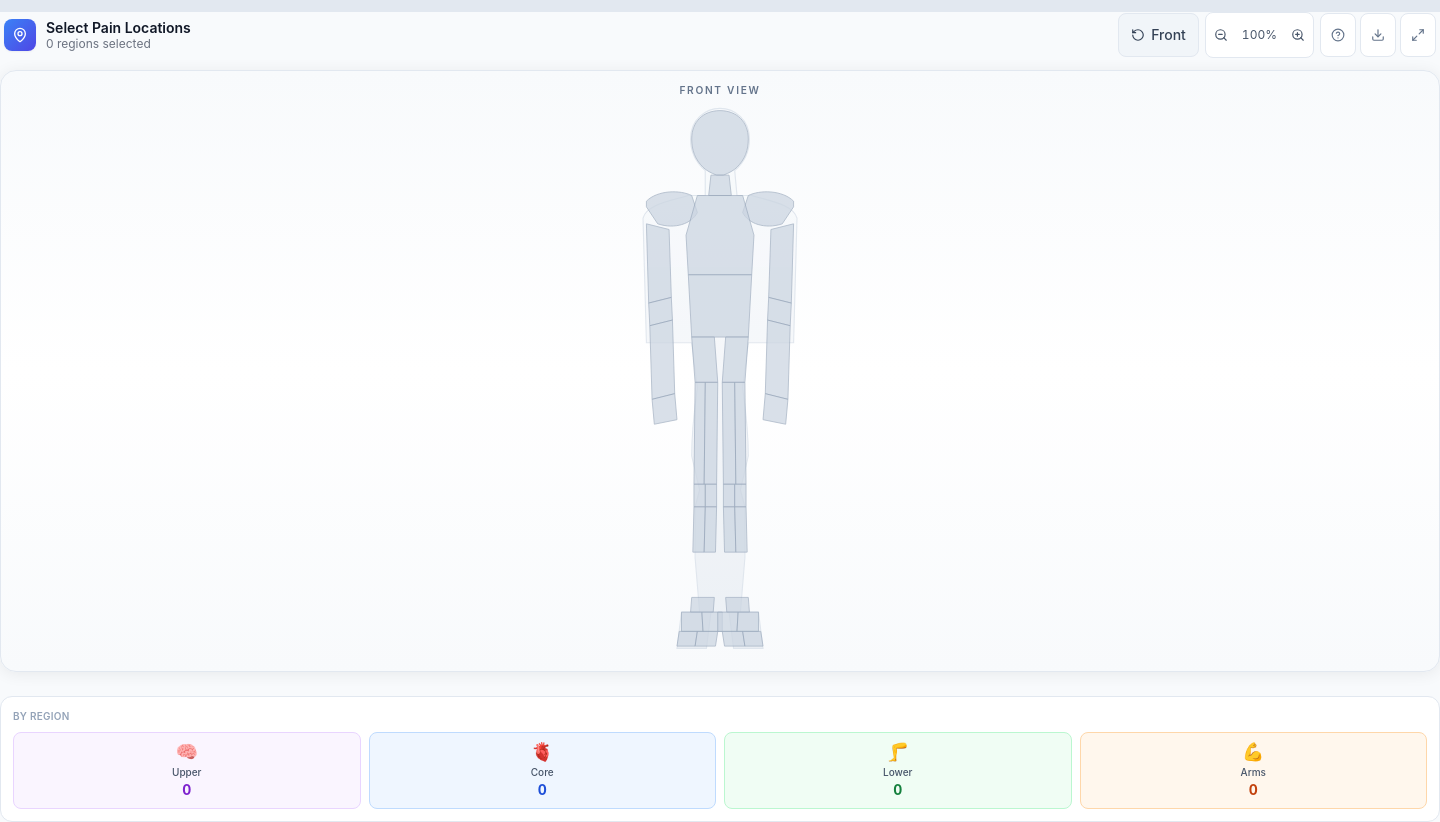
it: InteractiveBodyMap › zoom controls › decreases zoom on zoom out click
Click the button named "Zoom out" at (1221, 35), box x1=1206 y1=13 x2=1236 y2=57
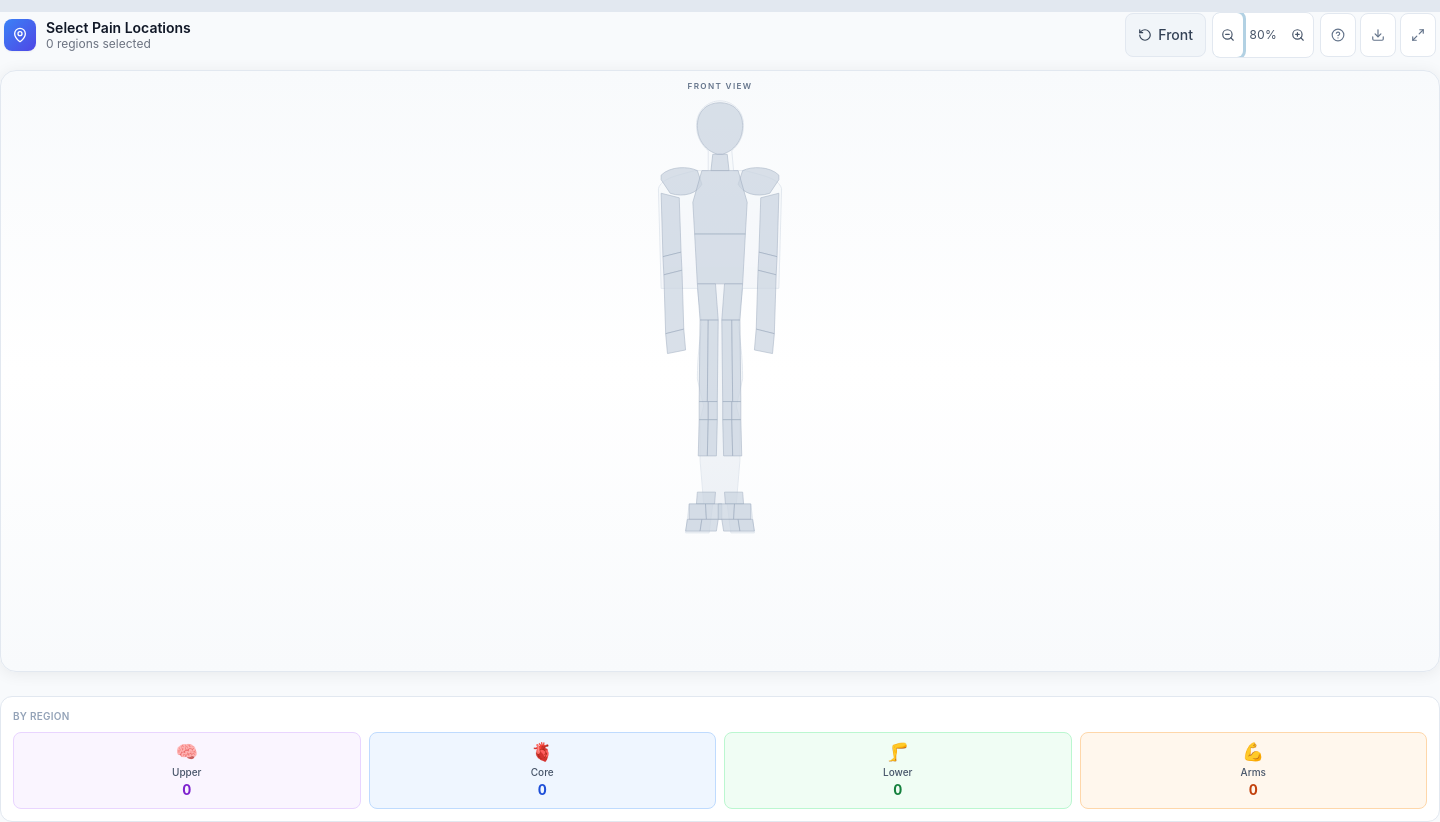
expect the text "80%" is shown: met, box x1=1249 y1=27 x2=1277 y2=42
